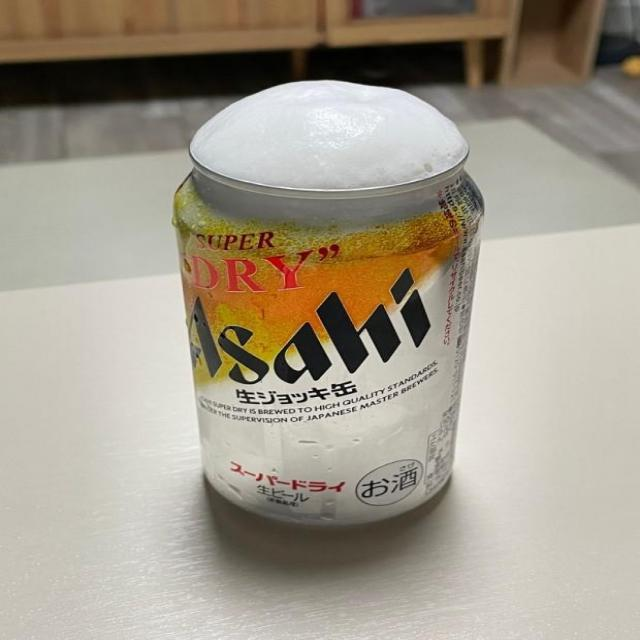beer-can: (172, 78, 488, 536)
